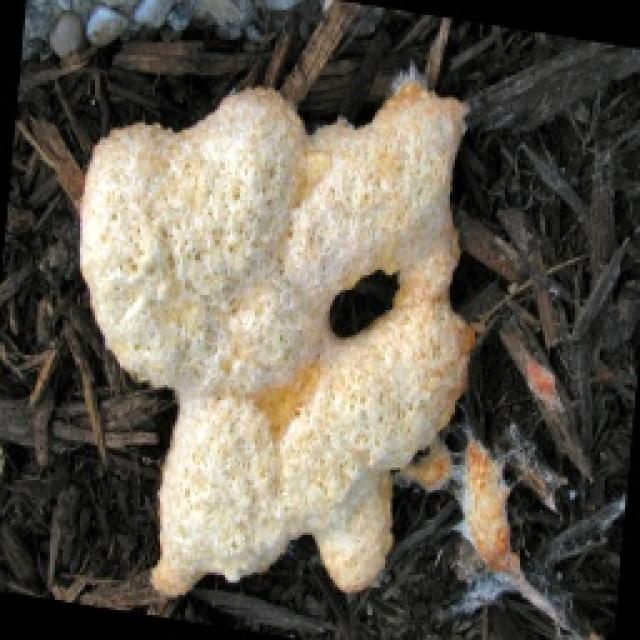Dog_vomit_slime_mold: (54, 56, 567, 632)
